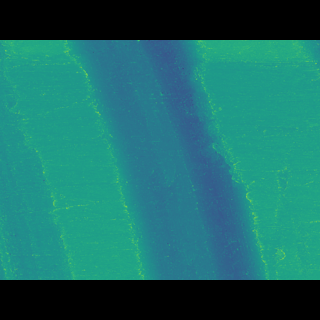Loch: (58, 70, 271, 249), (0, 97, 75, 249)
